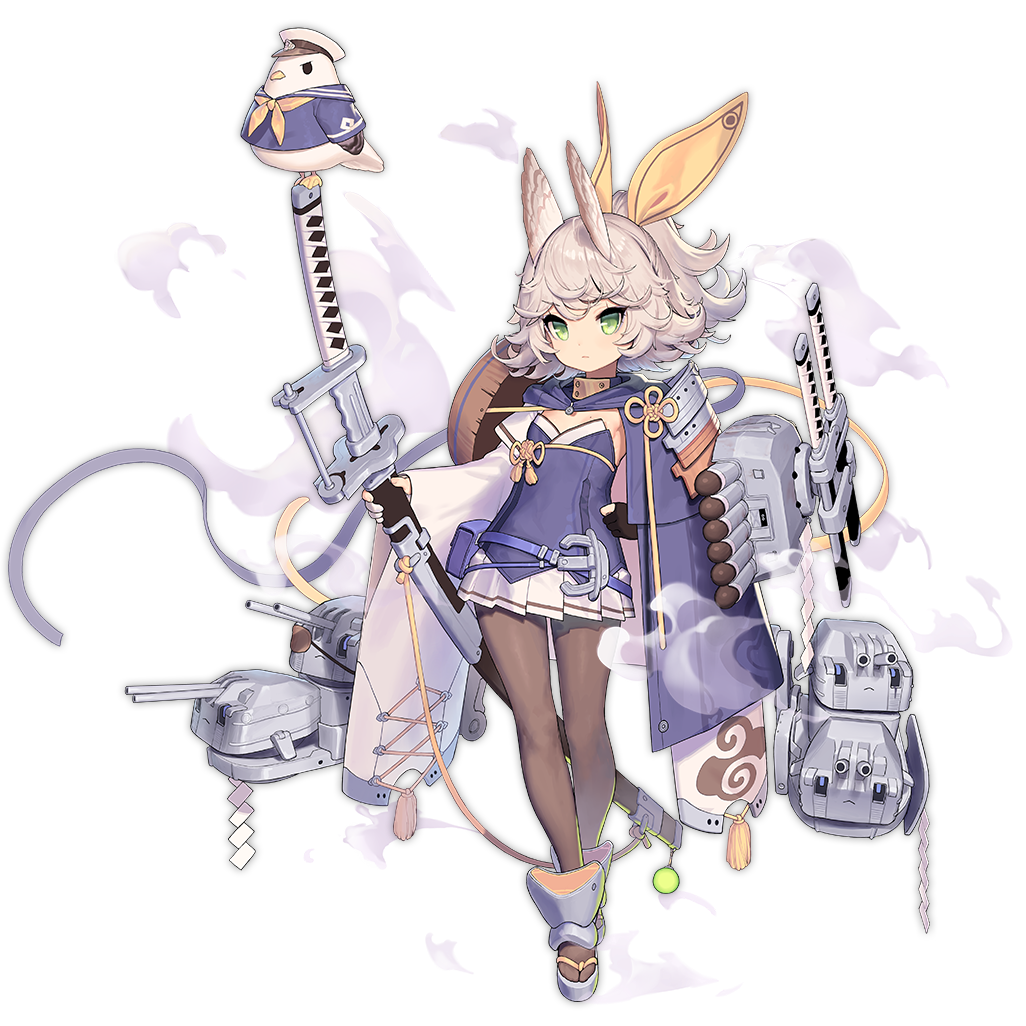person: (349, 195, 729, 801)
